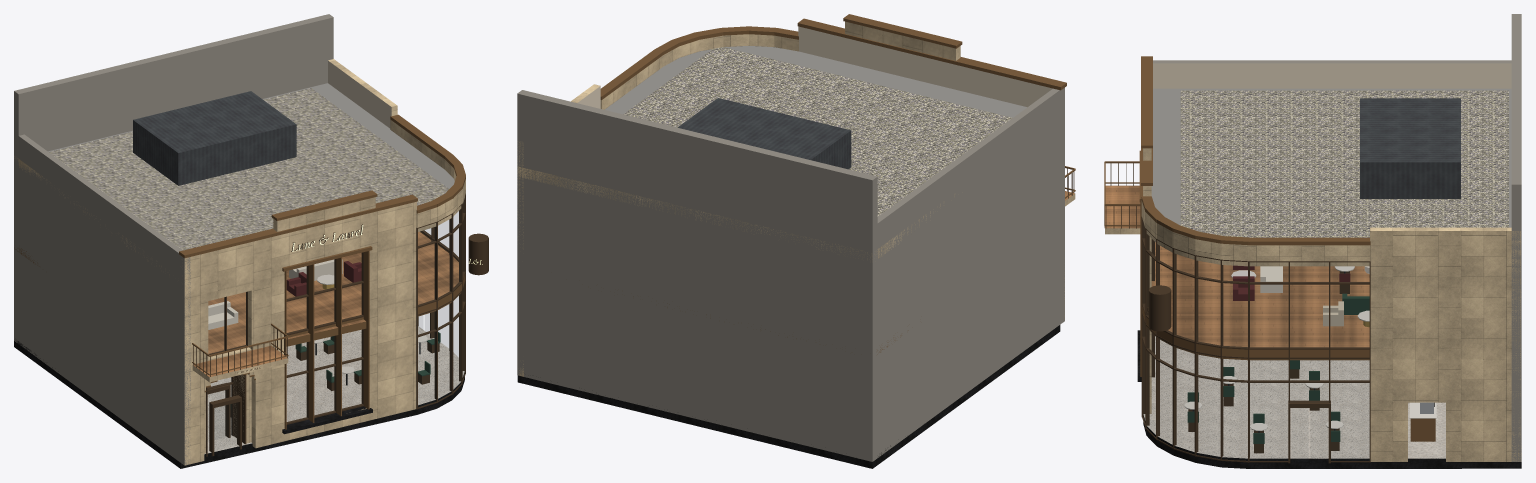
Rendered from lune_and_laurel_LOD1.fbx.
3 views of the same model, side by side, from view 1: azimuth 30°, elevation 25°; view 2: azimuth 150°, elevation 25°; view 3: azimuth 270°, elevation 25° (orthographic). The views are drawn at different scales.
Parts seen in each view (by area): view 1: B03_LOD1_BUILDING_EXTERIOR_Stone, B03_LOD1_BUILDING_EXTERIOR_Roof, B03_LOD1_BUILDING_EXTERIOR_RearInterface, B03_LOD1_BUILDING_INTERIOR_GroundSlab, B03_LOD1_BUILDING_INTERIOR_FirstSlab, B03_LOD1_FACADE_DETAILS_Bronze, B03_LOD1_GLASS_SYSTEM_TallWindowFrame, B03_LOD1_GLASS_SYSTEM_CornerFrame, B03_LOD1_FURNITURE_Cafe, B03_LOD1_FACADE_DETAILS_CornerBands, B03_LOD1_GLASS_SYSTEM_CornerGlass, B03_LOD1_GLASS_SYSTEM_BalconyDoorFrame (+3 smaller); view 2: B03_LOD1_BUILDING_EXTERIOR_Stone, B03_LOD1_BUILDING_EXTERIOR_RearInterface, B03_LOD1_BUILDING_EXTERIOR_Roof, B03_LOD1_FACADE_DETAILS_CornerBands, B03_LOD1_BUILDING_INTERIOR_GroundSlab, B03_LOD1_FACADE_DETAILS_Bronze; view 3: B03_LOD1_BUILDING_EXTERIOR_Roof, B03_LOD1_BUILDING_EXTERIOR_Stone, B03_LOD1_BUILDING_INTERIOR_GroundSlab, B03_LOD1_BUILDING_INTERIOR_FirstSlab, B03_LOD1_GLASS_SYSTEM_CornerFrame, B03_LOD1_FACADE_DETAILS_CornerBands, B03_LOD1_FURNITURE_Cafe, B03_LOD1_BUILDING_EXTERIOR_RearInterface, B03_LOD1_FACADE_DETAILS_Bronze, B03_LOD1_DISPLAY_OBJECTS_Pastry, B03_LOD1_SIGNAGE_Blade, B03_LOD1_FACADE_DETAILS_BalconyRail (+1 smaller).
Boxes of the visible parts, x1,y1,x2,y2 form: B03_LOD1_BUILDING_EXTERIOR_Stone: (14, 59, 416, 465); B03_LOD1_BUILDING_EXTERIOR_Roof: (14, 83, 464, 274); B03_LOD1_BUILDING_EXTERIOR_RearInterface: (14, 14, 333, 342); B03_LOD1_BUILDING_INTERIOR_GroundSlab: (14, 326, 464, 468); B03_LOD1_BUILDING_INTERIOR_FirstSlab: (14, 231, 461, 353); B03_LOD1_FACADE_DETAILS_Bronze: (179, 190, 417, 434); B03_LOD1_GLASS_SYSTEM_TallWindowFrame: (284, 251, 369, 429); B03_LOD1_GLASS_SYSTEM_CornerFrame: (416, 193, 465, 409); B03_LOD1_FURNITURE_Cafe: (208, 259, 440, 417); B03_LOD1_FACADE_DETAILS_CornerBands: (390, 114, 465, 227); B03_LOD1_GLASS_SYSTEM_CornerGlass: (418, 212, 458, 356); B03_LOD1_GLASS_SYSTEM_BalconyDoorFrame: (208, 291, 247, 456); B03_LOD1_BUILDING_EXTERIOR_Stone: (517, 21, 1064, 461); B03_LOD1_BUILDING_EXTERIOR_RearInterface: (517, 90, 877, 461); B03_LOD1_BUILDING_EXTERIOR_Roof: (517, 46, 1026, 259); B03_LOD1_FACADE_DETAILS_CornerBands: (600, 26, 798, 109); B03_LOD1_BUILDING_INTERIOR_GroundSlab: (517, 325, 1060, 468); B03_LOD1_FACADE_DETAILS_Bronze: (797, 14, 1075, 206); B03_LOD1_BUILDING_EXTERIOR_Roof: (1144, 88, 1511, 266); B03_LOD1_BUILDING_EXTERIOR_Stone: (1143, 60, 1521, 461); B03_LOD1_BUILDING_INTERIOR_GroundSlab: (1143, 336, 1521, 468); B03_LOD1_BUILDING_INTERIOR_FirstSlab: (1147, 242, 1369, 360); B03_LOD1_GLASS_SYSTEM_CornerFrame: (1141, 217, 1370, 463); B03_LOD1_FACADE_DETAILS_CornerBands: (1141, 196, 1370, 261); B03_LOD1_FURNITURE_Cafe: (1184, 265, 1369, 453); B03_LOD1_BUILDING_EXTERIOR_RearInterface: (1511, 14, 1521, 461); B03_LOD1_FACADE_DETAILS_Bronze: (1105, 56, 1152, 381); B03_LOD1_DISPLAY_OBJECTS_Pastry: (1408, 402, 1436, 441); B03_LOD1_SIGNAGE_Blade: (1146, 285, 1171, 331); B03_LOD1_FACADE_DETAILS_BalconyRail: (1104, 161, 1140, 228).
Size of the model in its own units: 16.17 by 16.53 by 12.42.
